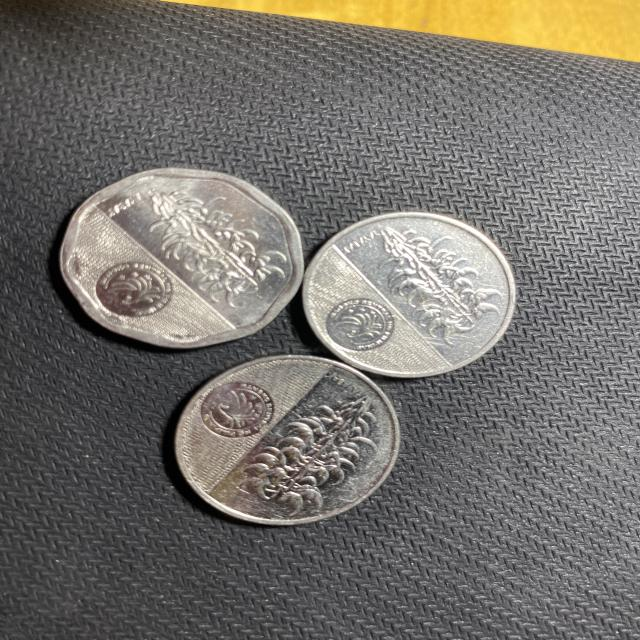5_New_Back: (146, 191, 282, 296), (251, 397, 370, 515), (378, 228, 491, 332)
